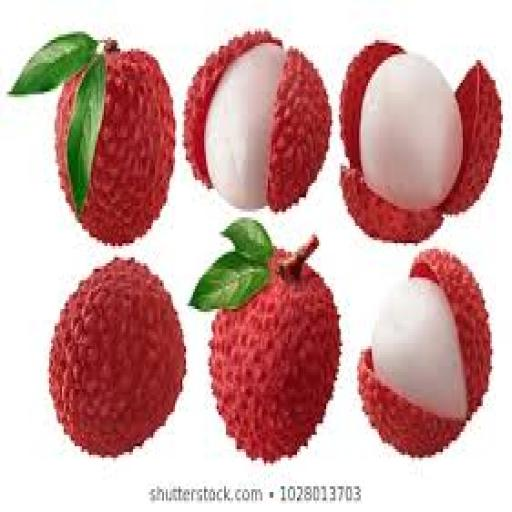lychee: (192, 221, 340, 463), (11, 32, 174, 245), (341, 43, 501, 243), (359, 249, 491, 457), (50, 261, 185, 457), (185, 32, 331, 211), (81, 49, 174, 245)
